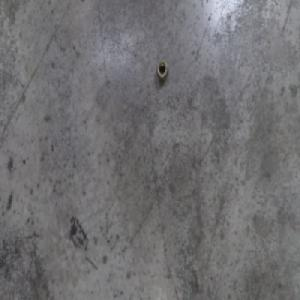Nut: (155, 58, 168, 83)
